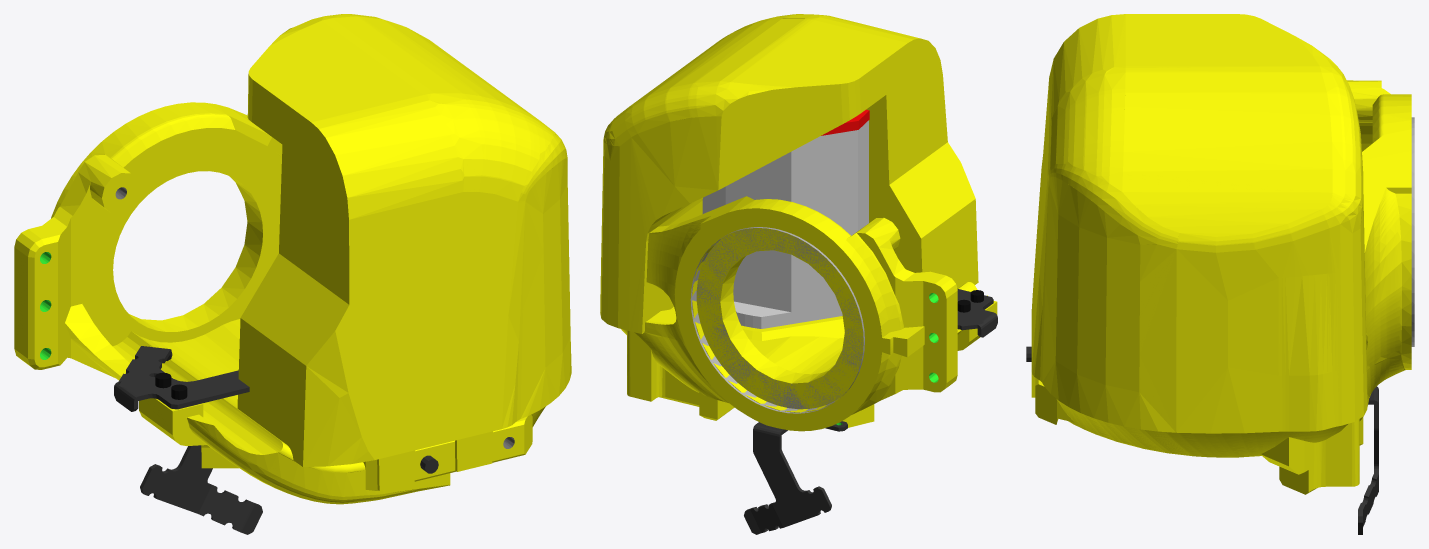
3 renders of one model, left to right at view 1: azimuth 30°, elevation 25°; view 2: azimuth 150°, elevation 25°; view 3: azimuth 270°, elevation 25°, orthographic. The views are drawn at different scales.
Visible parts, largest first — view 1: node; view 2: node; view 3: node.
Boxes of the visible parts, box(x1,y1,x2,y2) form: node: box(14, 14, 571, 534); node: box(600, 14, 997, 534); node: box(1026, 14, 1414, 534).
Size of the model in its own units: 321 by 355 by 254.
